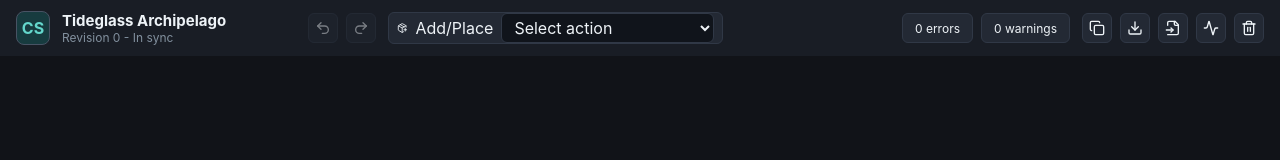
Test case: rendered surface equivalence classes › shows toolbar feedback for clipboard copy and local data clearing
Click the button named "Copy JSON": (1097,28) top-left (1082, 13), bottom-right (1112, 43)
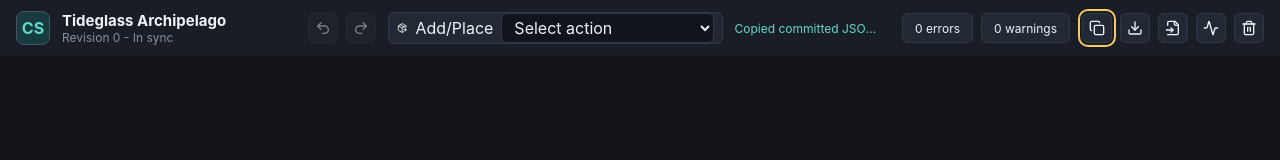
Result: the message reads "Copied committed JSON." at top-left (735, 20), bottom-right (878, 36)
Click the button named "Clear local data": (1249,28) top-left (1234, 13), bottom-right (1264, 43)
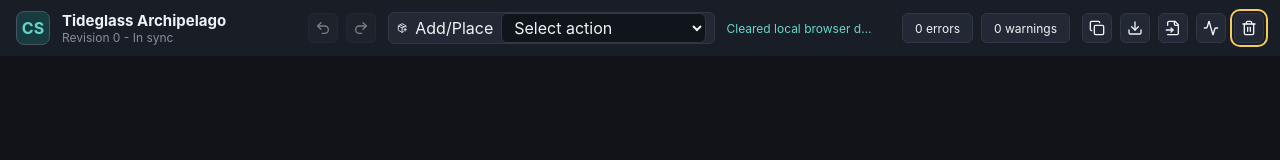
Result: the message reads "Cleared local browser data." at top-left (726, 20), bottom-right (882, 36)
